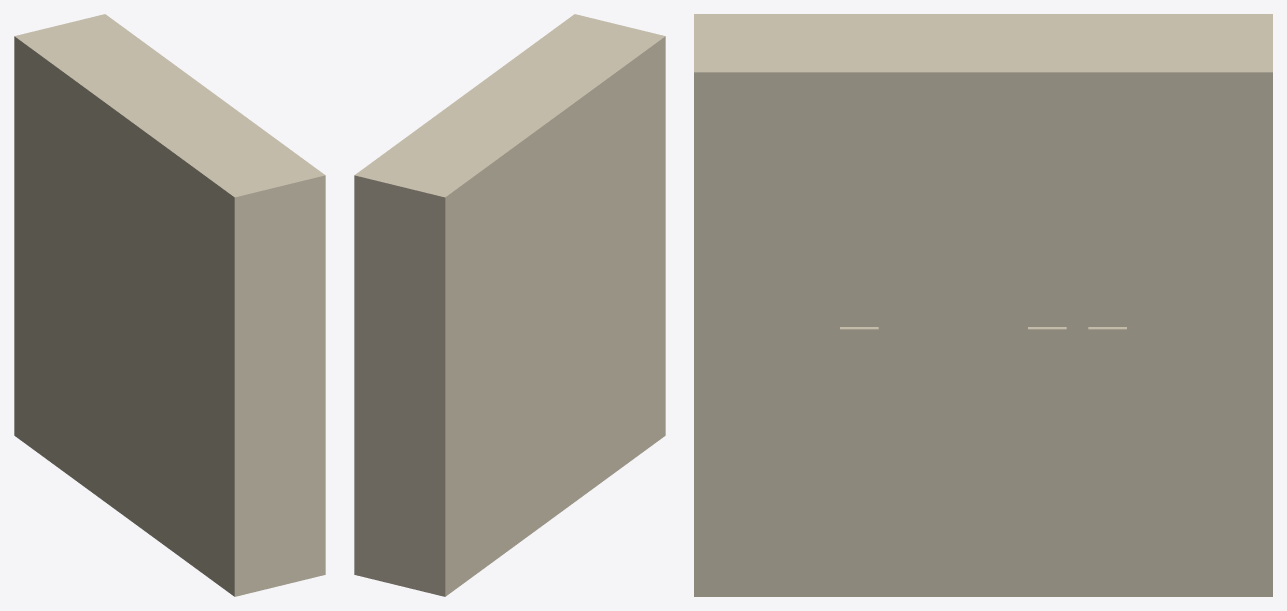
Rendered from closet-01.gltf.
3 views of the same model, side by side, from view 1: azimuth 30°, elevation 25°; view 2: azimuth 150°, elevation 25°; view 3: azimuth 270°, elevation 25° (orthographic). The views are drawn at different scales.
Visible parts, largest first — view 1: object_7; view 2: object_7; view 3: object_2, object_3, object_6, object_7.
Part boxes in pixels (x1,y1,x2,y2): object_7: [14, 14, 325, 596]; object_7: [354, 14, 665, 596]; object_2: [1077, 77, 1265, 591]; object_3: [889, 77, 1077, 591]; object_6: [701, 77, 889, 591]; object_7: [694, 14, 1272, 596].
Size of the model in its own units: 52 by 210 by 210.
